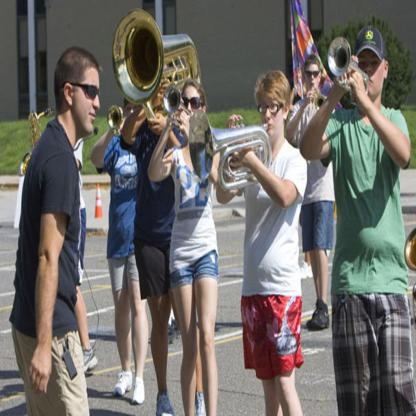face: (74, 65, 101, 135), (358, 52, 385, 98), (183, 88, 203, 134), (262, 97, 283, 139), (306, 65, 320, 94), (126, 104, 141, 131)
